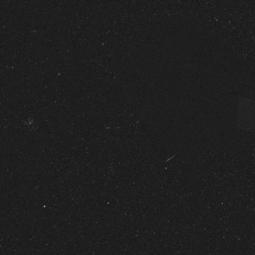cheops: (145, 59, 255, 173)
